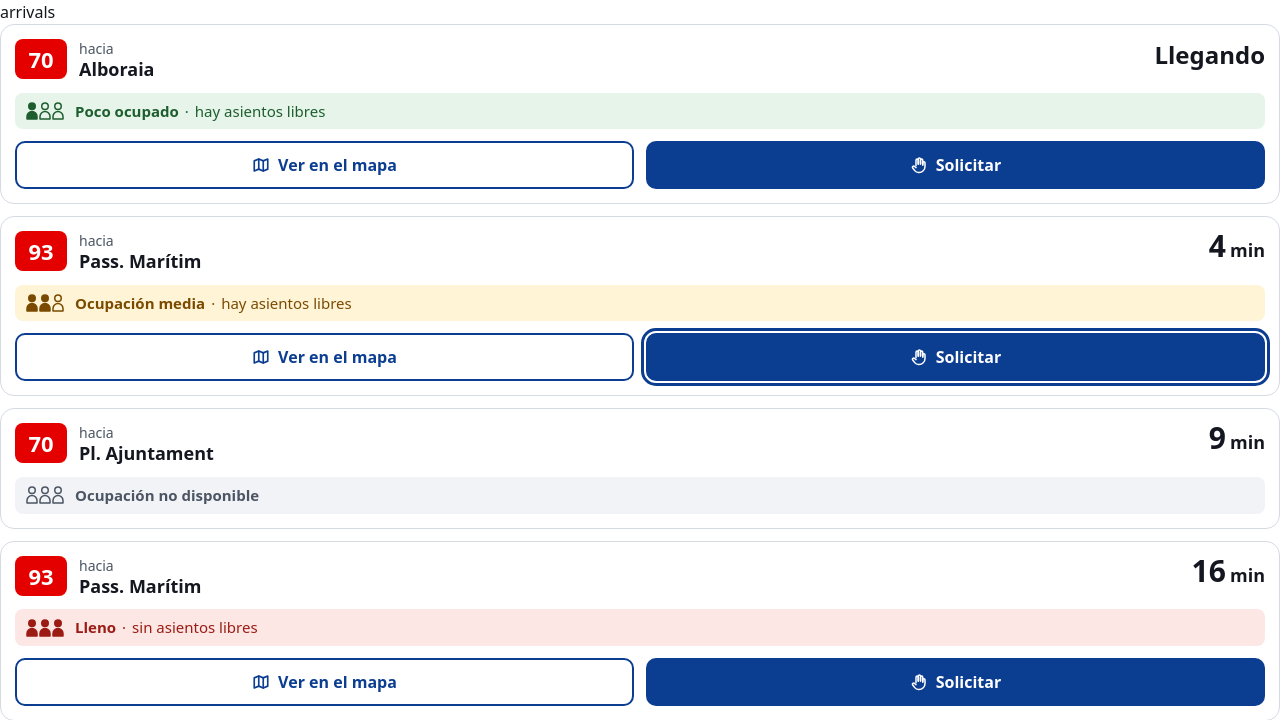
RequestDialog › [passenger_alert_ui.AC-06] after a network error "Solicitar parada" tries again
Click the button named "Solicitar parada a la línea 93 hacia Passeig Marítim - Hospital Malva-rosa". click: (956, 357)
box: [646,333,1265,381]
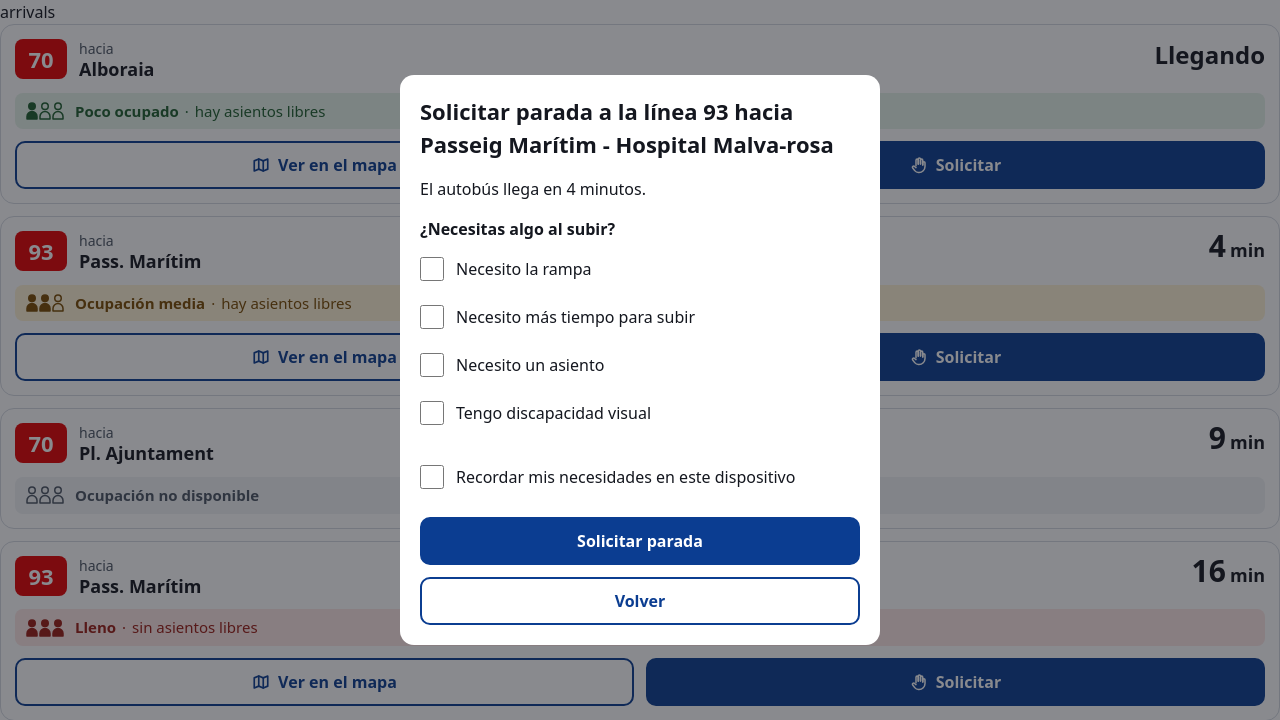
Click the button "Solicitar parada". click: (640, 541)
box: [420,517,860,565]
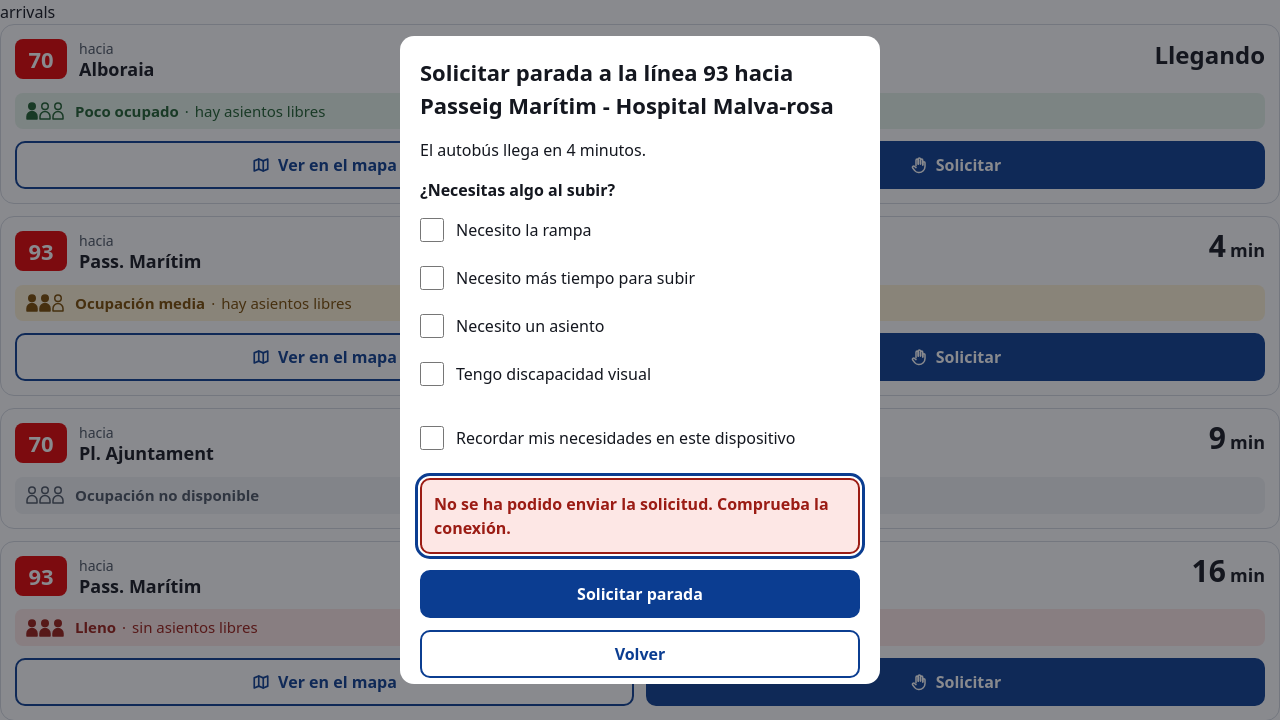
Expected: the message "No se ha podido enviar la solicitud. Comprueba la conexión." is shown, [420,478,860,554]
Click the button "Solicitar parada". click: (640, 594)
box: [420,570,860,618]
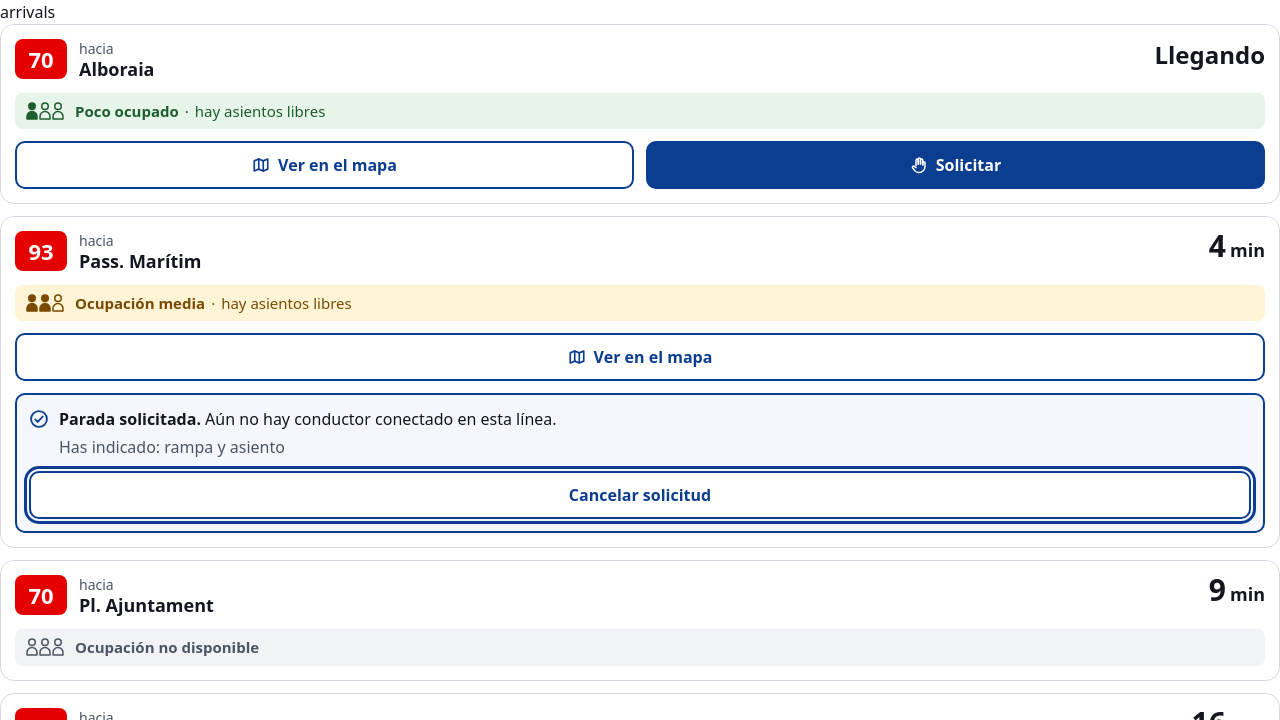
Expected: the dialog is gone
